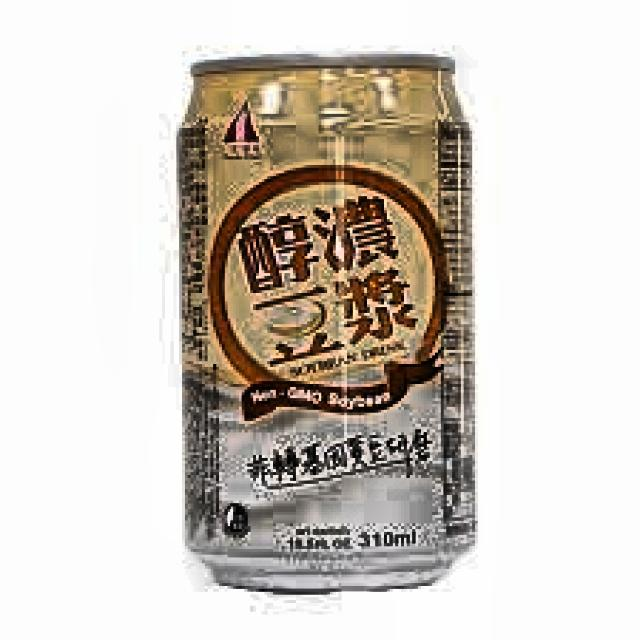can: (170, 42, 492, 608)
